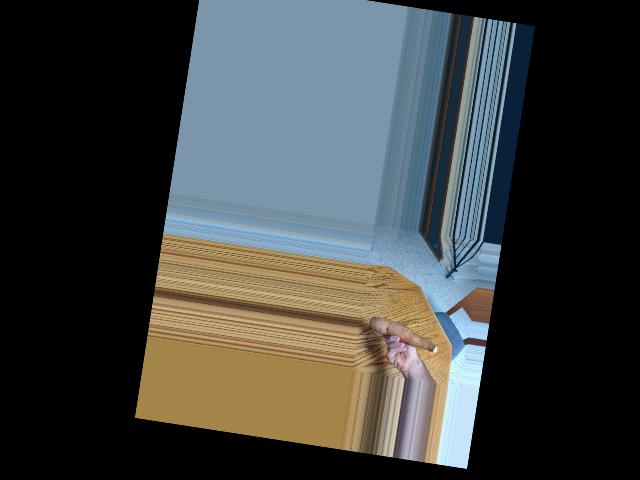sweet_potato: (368, 311, 443, 354)
